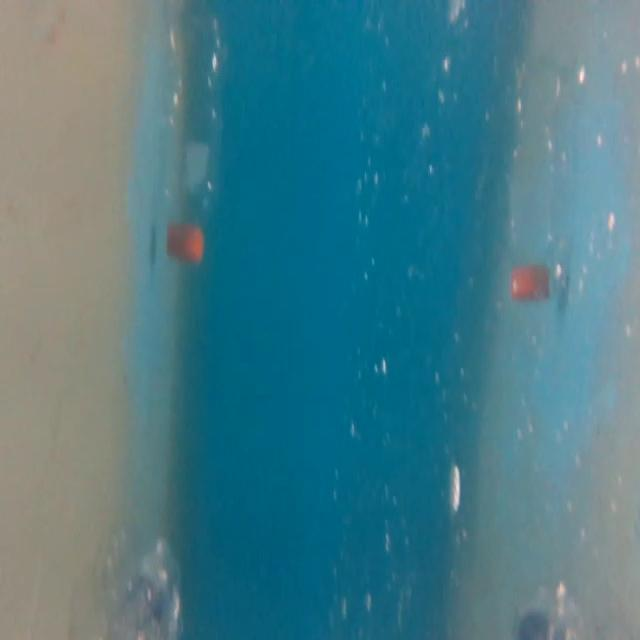plastic bottle: (155, 9, 233, 261)
